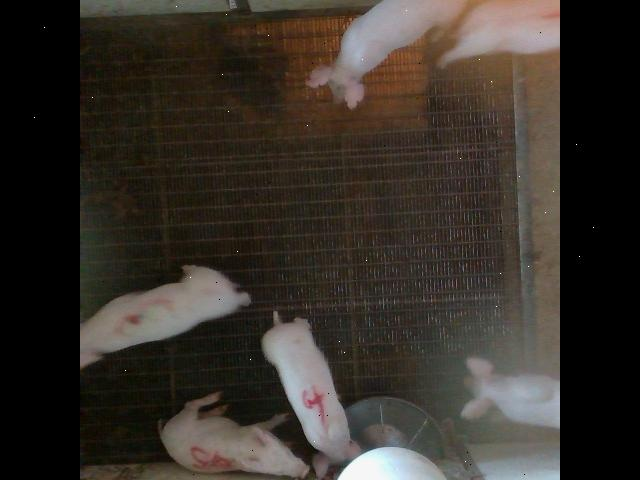pig-1: (438, 0, 558, 66)
pig-3: (80, 264, 251, 366)
pig-4: (261, 311, 361, 478)
pig-5: (159, 391, 309, 476)
